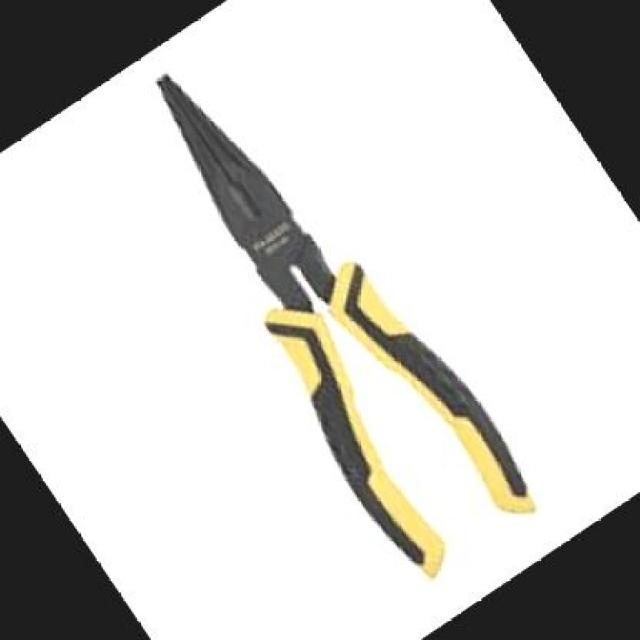pliers: (47, 0, 612, 635)
